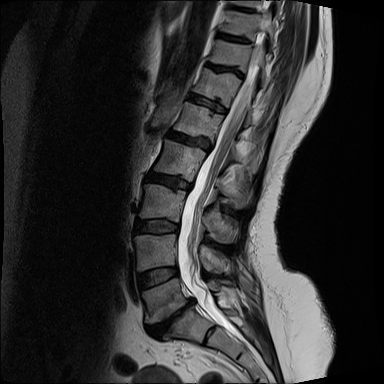Degenerative Disc Disease (DDD): (197, 56, 251, 84), (210, 26, 258, 48), (219, 3, 268, 18)
Lumbar Disc Bulge (LDB): (138, 291, 203, 349)
Normal IVD: (131, 257, 183, 296), (158, 125, 217, 156), (141, 166, 197, 195), (128, 215, 184, 244), (180, 89, 232, 119)
Spinal Stenosis (SS): (182, 290, 202, 318)
